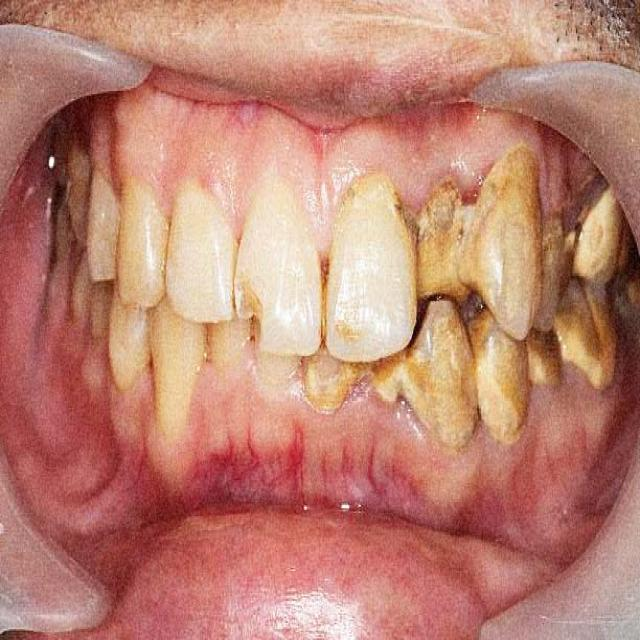caries: (231, 272, 268, 348)
